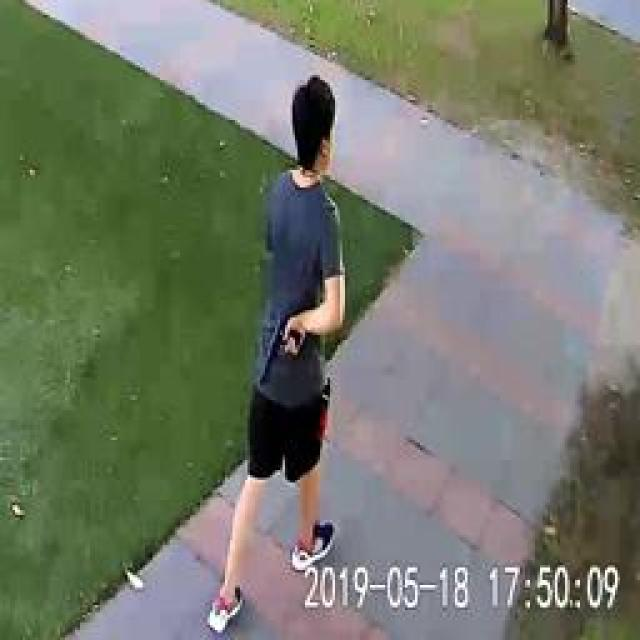Guns: (252, 292, 322, 415)
